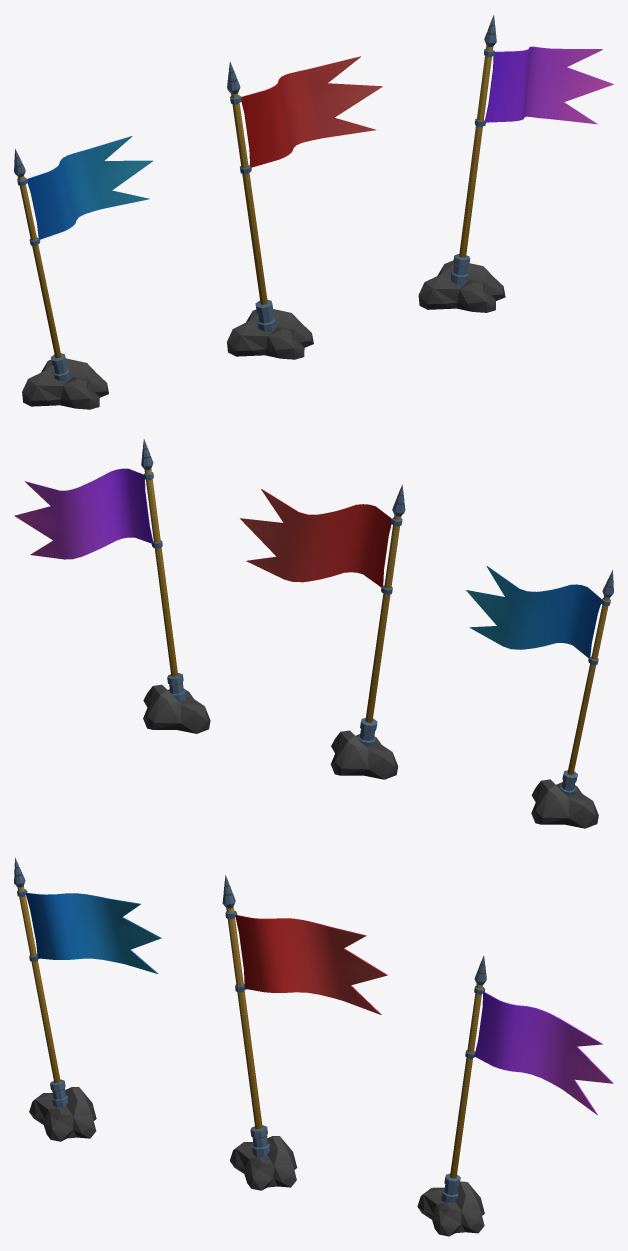
Rendered from flags_triple.glb.
3 renders of one model, top to bottom at view 1: azimuth 30°, elevation 25°; view 2: azimuth 150°, elevation 25°; view 3: azimuth 330°, elevation 25°, orthographic. The views are drawn at different scales.
Visible parts, largest first — view 1: Cube.003; view 2: Cube.003; view 3: Cube.003.
Boxes of the visible parts, bbox=[...] form: Cube.003: bbox=[14, 15, 613, 409]; Cube.003: bbox=[14, 439, 613, 828]; Cube.003: bbox=[14, 857, 613, 1236].
Size of the model in its own units: 9.17 by 4.31 by 1.04.
1 material, 1 textured.
